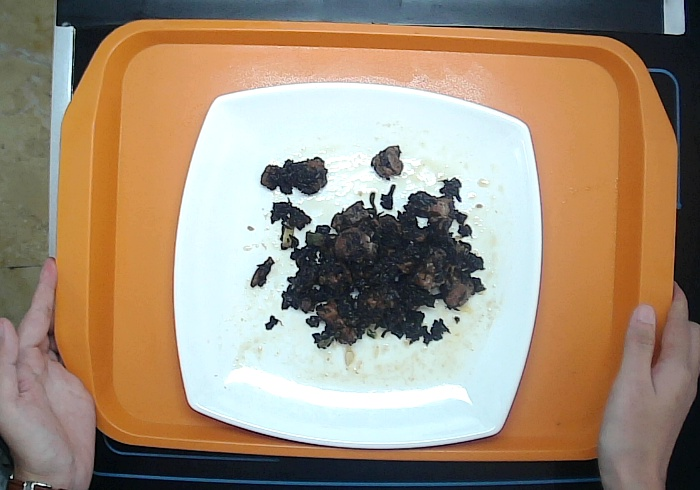ZNLD-Bai_Fang_Pan: (171, 81, 541, 450)
